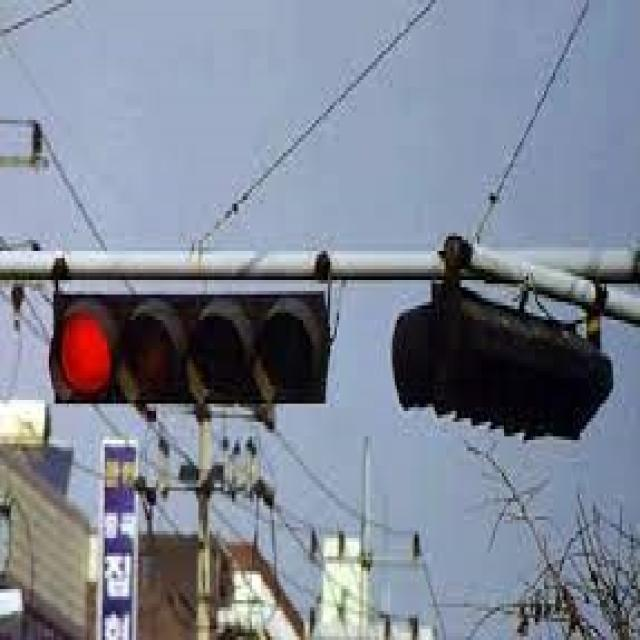Red Light: (54, 300, 115, 402)
